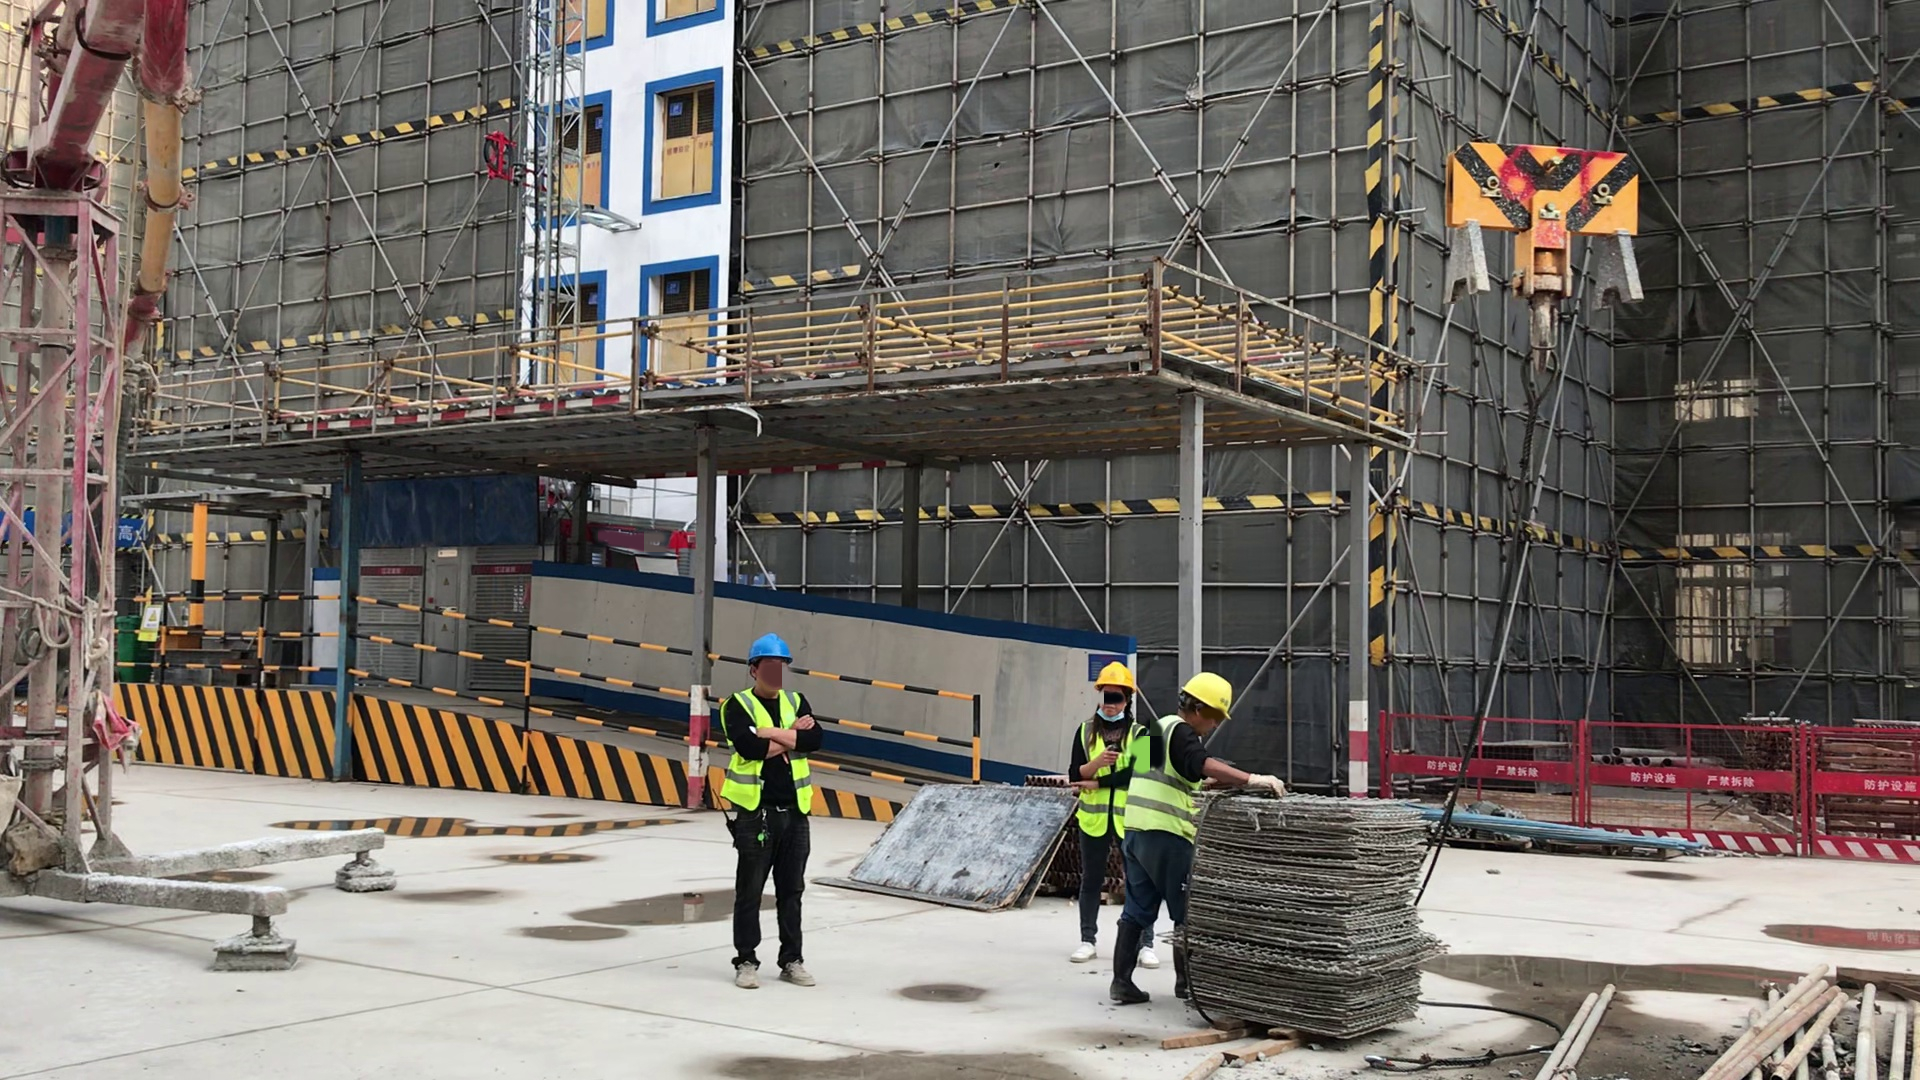fence: (367, 590, 691, 757), (1691, 724, 1920, 865), (824, 663, 988, 779), (1495, 722, 1688, 820), (204, 587, 339, 679)
helmet: (1175, 673, 1234, 720), (746, 633, 794, 668), (1094, 663, 1137, 693)
hook: (1426, 127, 1659, 372)
person: (720, 631, 827, 993), (1111, 671, 1206, 1003), (1067, 661, 1123, 965)
slogan: (136, 602, 163, 642), (487, 564, 521, 576), (372, 567, 406, 575)
vest: (722, 689, 813, 818), (1127, 713, 1198, 847), (1079, 719, 1126, 841)
